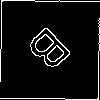B: (24, 24, 80, 81)
